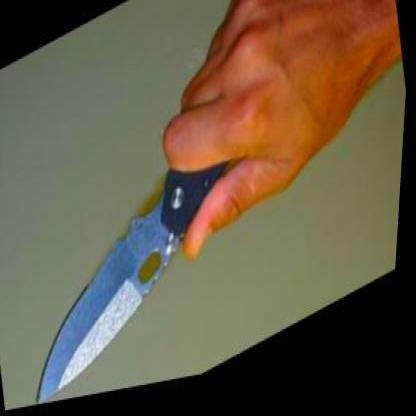knife: (4, 120, 284, 408)
